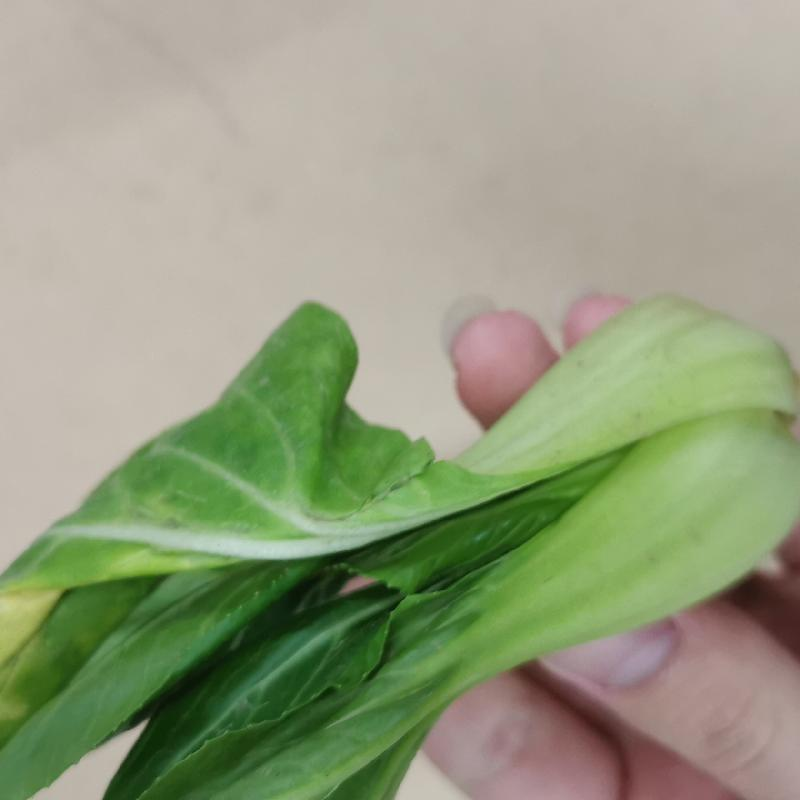green vegatable: (16, 301, 800, 800)
